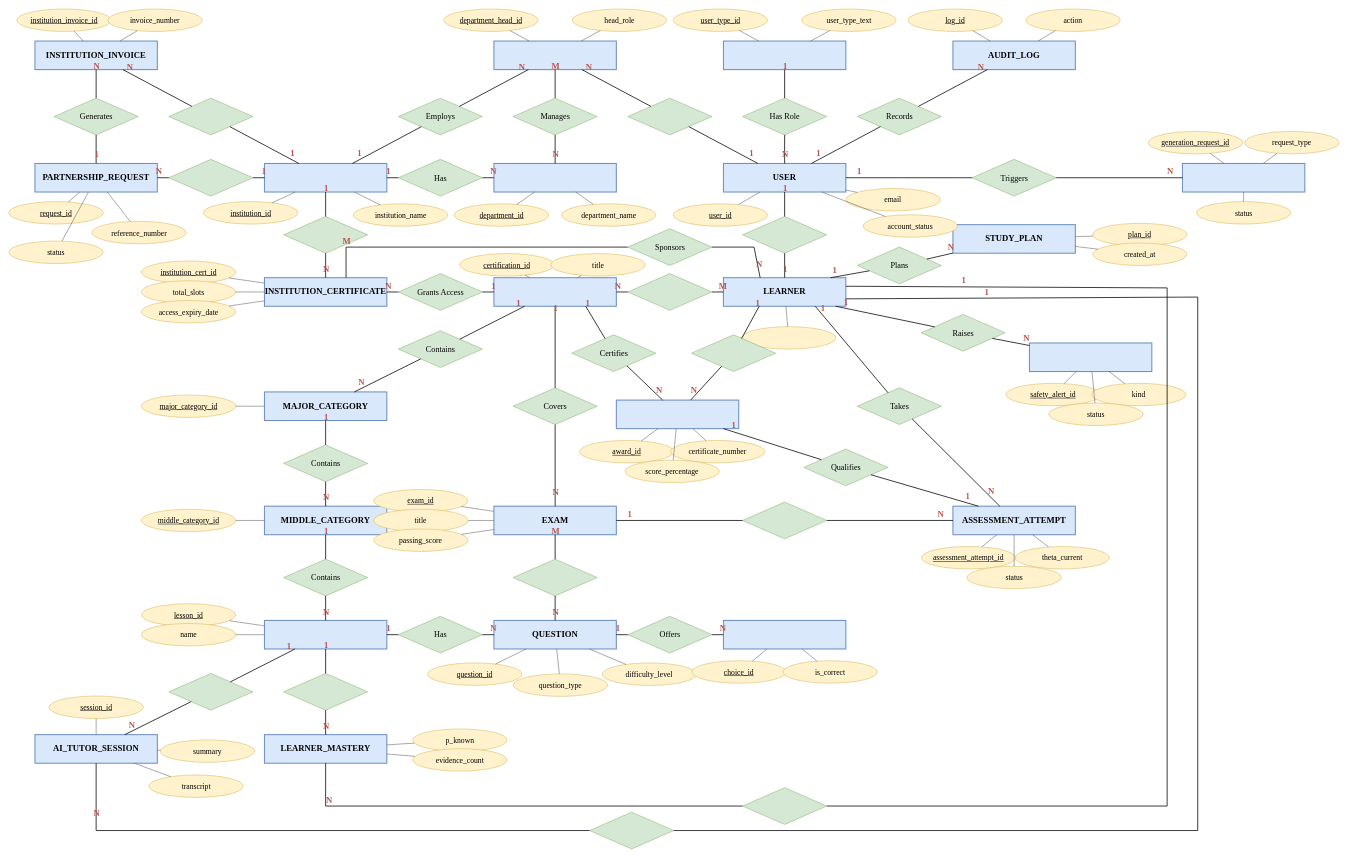
The diagram is 1348 pixels wide and 858 high, and some of its shapes have lost their labels. The centre of each missing label's shape, as x and y in pixels:
Acts As: (669,116)
Attempted In: (784,520)
Billed To: (210,116)
CERTIFICATE_AWARD: (677,414)
CERTIFICATION: (555,292)
CHOICE: (784,634)
Converses: (631,830)
DEPARTMENT: (555,177)
DEPARTMENT_HEAD: (555,55)
Discusses: (210,691)
Earns: (733,353)
Enrolls In: (669,291)
GENERATION_REQUEST: (1243,177)
Has Profile: (784,234)
Includes: (555,577)
INSTITUTION: (325,177)
learner_id: (788,337)
LESSON: (325,634)
Masters: (784,805)
Measures: (325,691)
Purchases: (325,234)
Submits: (210,177)
TUTOR_SAFETY_ALERT: (1090,357)
USER_TYPE: (784,55)
